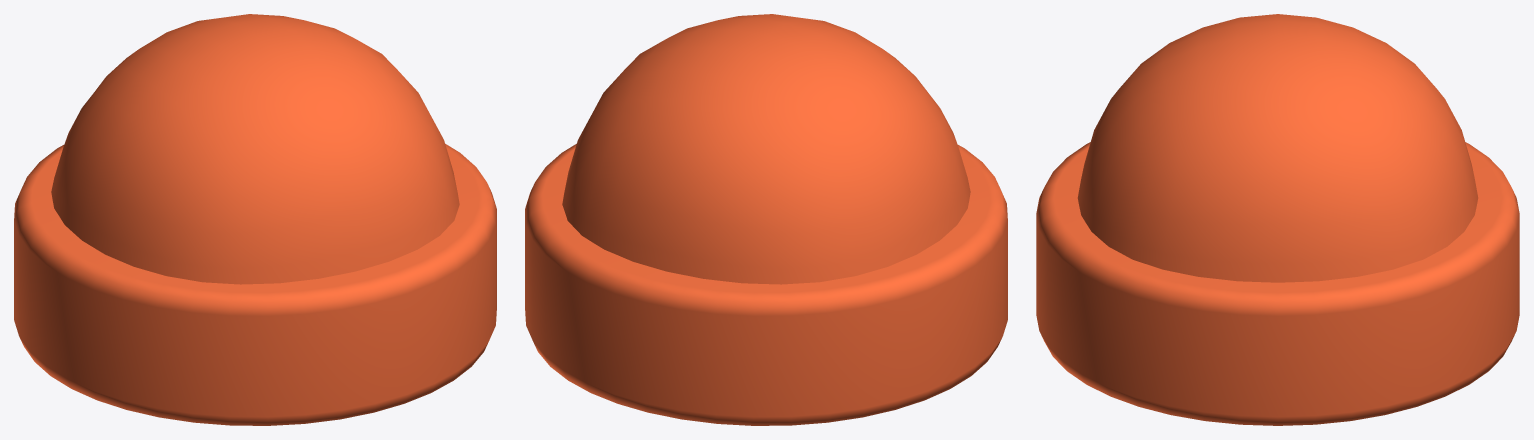
The model's file is Public_19_Pincushion_1.glb.
3 views of the same model, side by side, from view 1: azimuth 30°, elevation 25°; view 2: azimuth 150°, elevation 25°; view 3: azimuth 270°, elevation 25° (orthographic).
Parts seen in each view (by area): view 1: Public_19_Pincushion_1; view 2: Public_19_Pincushion_1; view 3: Public_19_Pincushion_1.
Boxes of the visible parts, box(x1,y1,x2,y2) form: Public_19_Pincushion_1: box(14, 14, 496, 425); Public_19_Pincushion_1: box(525, 14, 1007, 425); Public_19_Pincushion_1: box(1036, 14, 1519, 425).
Size of the model in its own units: 0.708 by 0.4772 by 0.708.
Materials: 1 (1 with a texture image).
